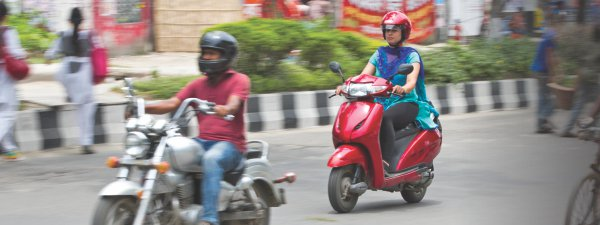motorbike: (90, 75, 297, 225)
scooter: (323, 58, 443, 212)
